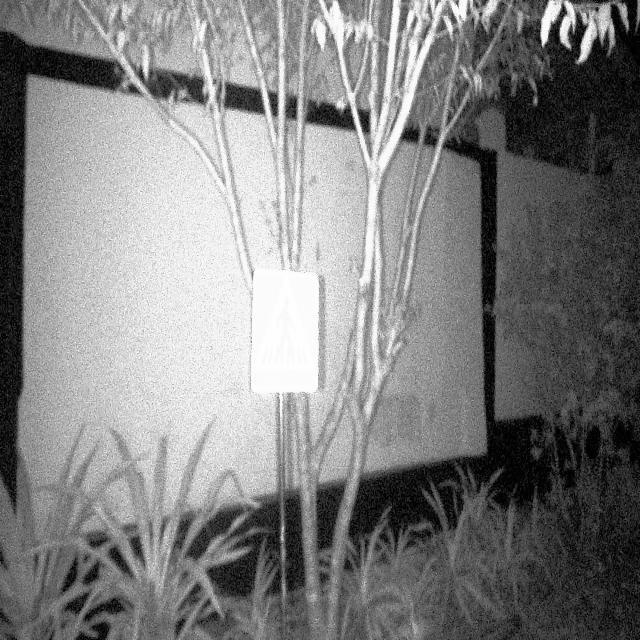Sign: (249, 268, 322, 396)
Tree: (322, 0, 468, 640), (181, 0, 316, 264)
